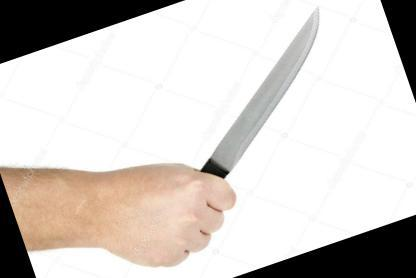knife: (105, 0, 390, 264)
